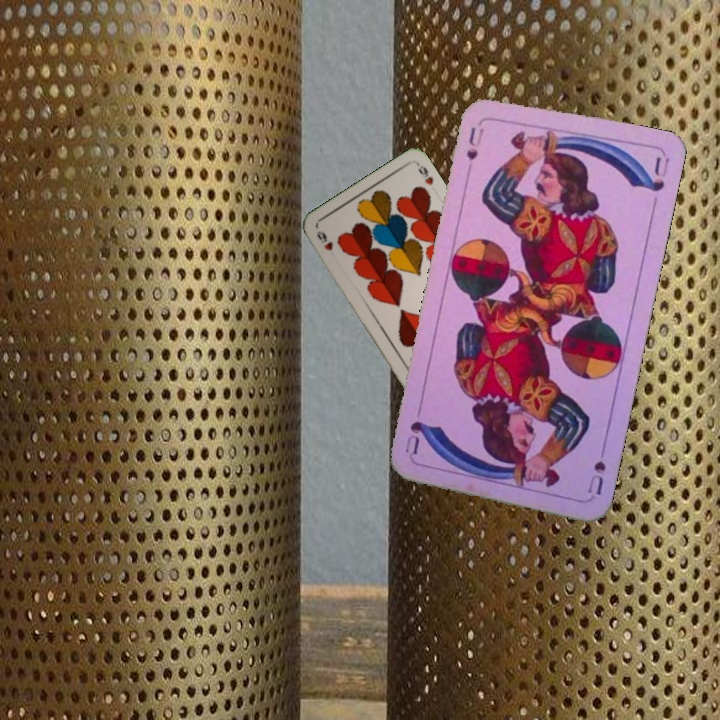H9: (313, 227, 336, 253)
SU: (583, 439, 609, 498), (462, 116, 486, 163)
